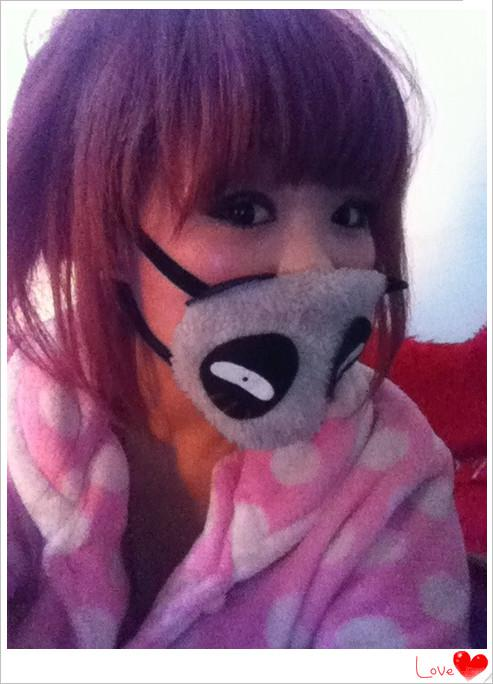WRONG: (131, 169, 400, 438)
